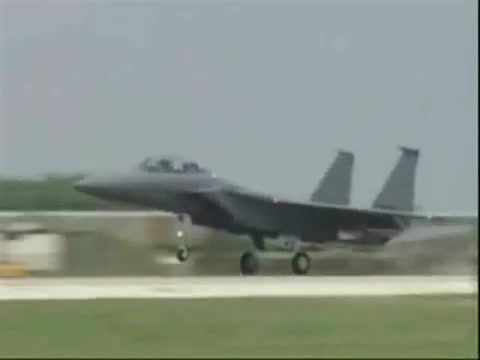aeroplane: (77, 147, 479, 275)
